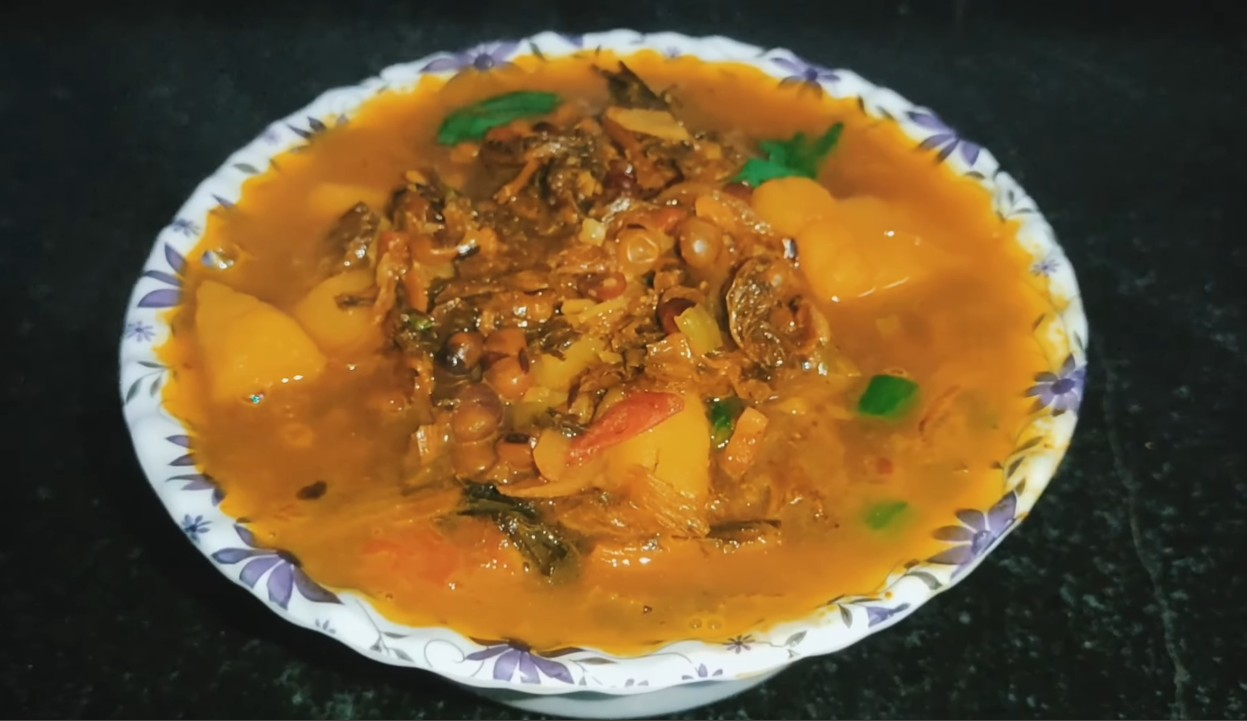gundruk: (238, 85, 930, 542)
